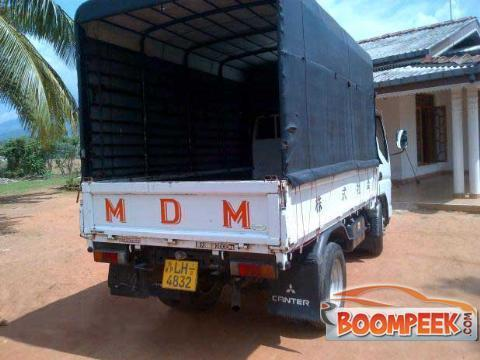license-plate: (164, 257, 196, 290)
